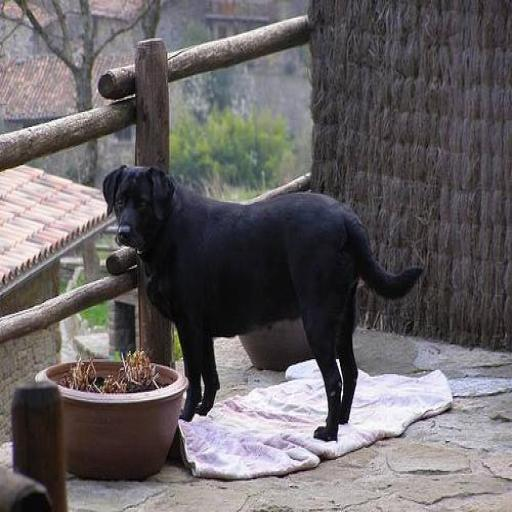dog_face: (102, 163, 180, 253)
